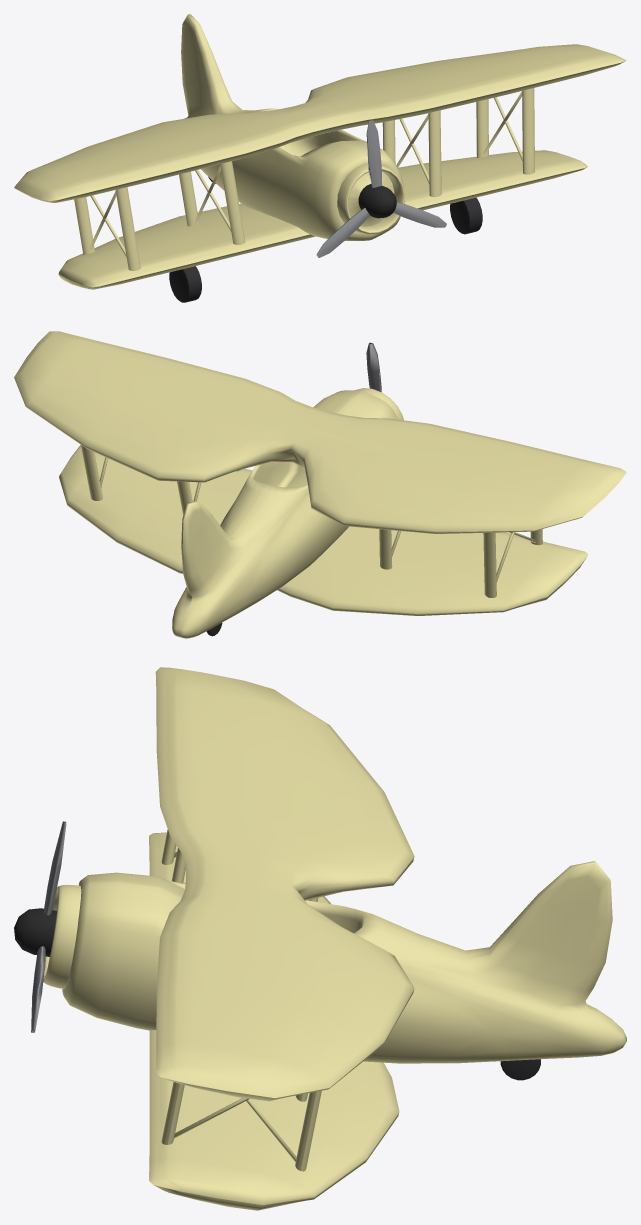
The model's file is airplane.glb.
3 renders of one model, top to bottom at view 1: azimuth 30°, elevation 25°; view 2: azimuth 150°, elevation 25°; view 3: azimuth 270°, elevation 25°, orthographic. The views are drawn at different scales.
Parts seen in each view (by area): view 1: airplane, propellor, wheel; view 2: airplane, propellor; view 3: airplane, propellor.
Part boxes in pixels (<box>): airplane: <box>14,14,626,289</box>; propellor: <box>316,120,446,257</box>; wheel: <box>169,176,482,302</box>; airplane: <box>14,331,626,638</box>; propellor: <box>366,342,381,391</box>; airplane: <box>43,667,626,1210</box>; propellor: <box>14,821,66,1032</box>.
Size of the model in its own units: 2.45 by 0.7119 by 1.54.
Materials: 3 (2 with a texture image).
